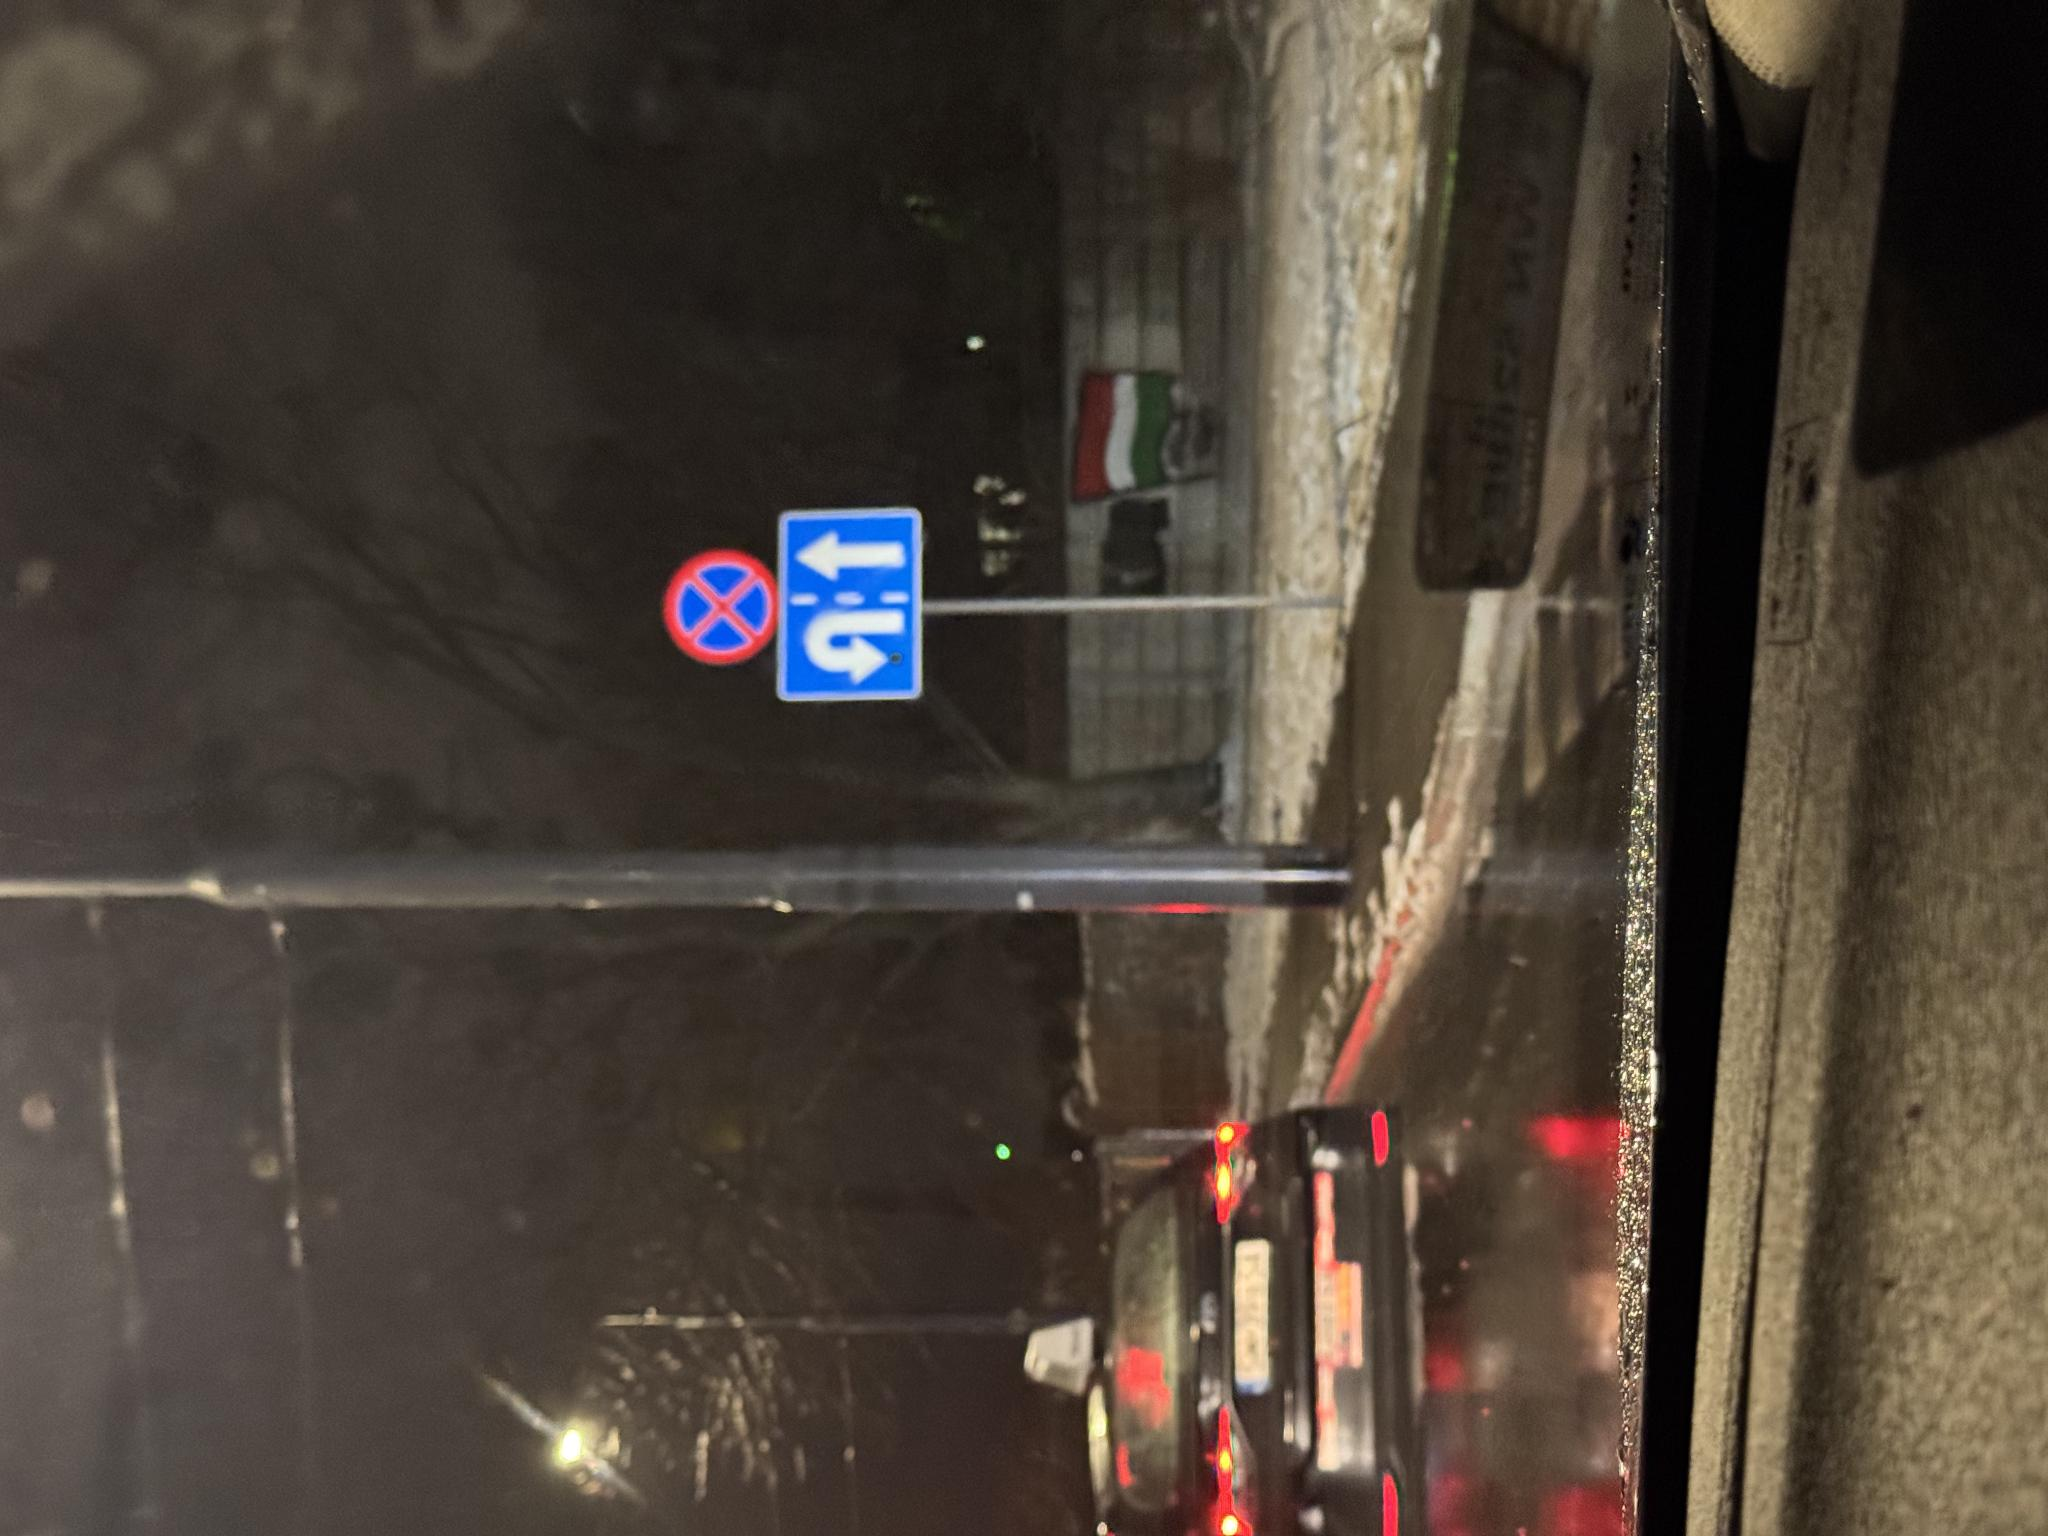other: (830, 776, 1030, 926)
prohibitory: (872, 659, 988, 779)
